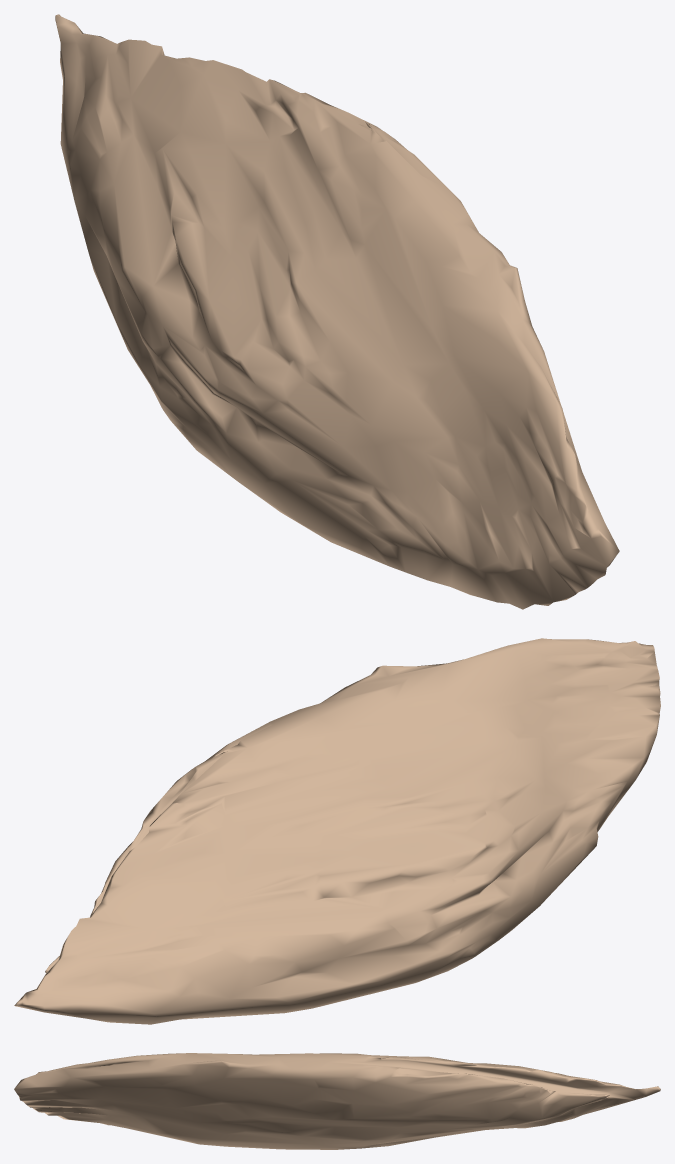
The picture shows the model from 3 angles, top to bottom: view 1: azimuth 30°, elevation 25°; view 2: azimuth 150°, elevation 25°; view 3: azimuth 270°, elevation 25°; orthographic projection. The views are drawn at different scales.
Parts seen in each view (by area): view 1: 左侧阔筋膜张肌; view 2: 左侧阔筋膜张肌; view 3: 左侧阔筋膜张肌.
Boxes of the visible parts, x1,y1,x2,y2 form: 左侧阔筋膜张肌: (55,14,619,609); 左侧阔筋膜张肌: (14,638,660,1024); 左侧阔筋膜张肌: (14,1053,660,1149).
Size of the model in its own units: 0.0577 by 0.0519 by 0.238.
